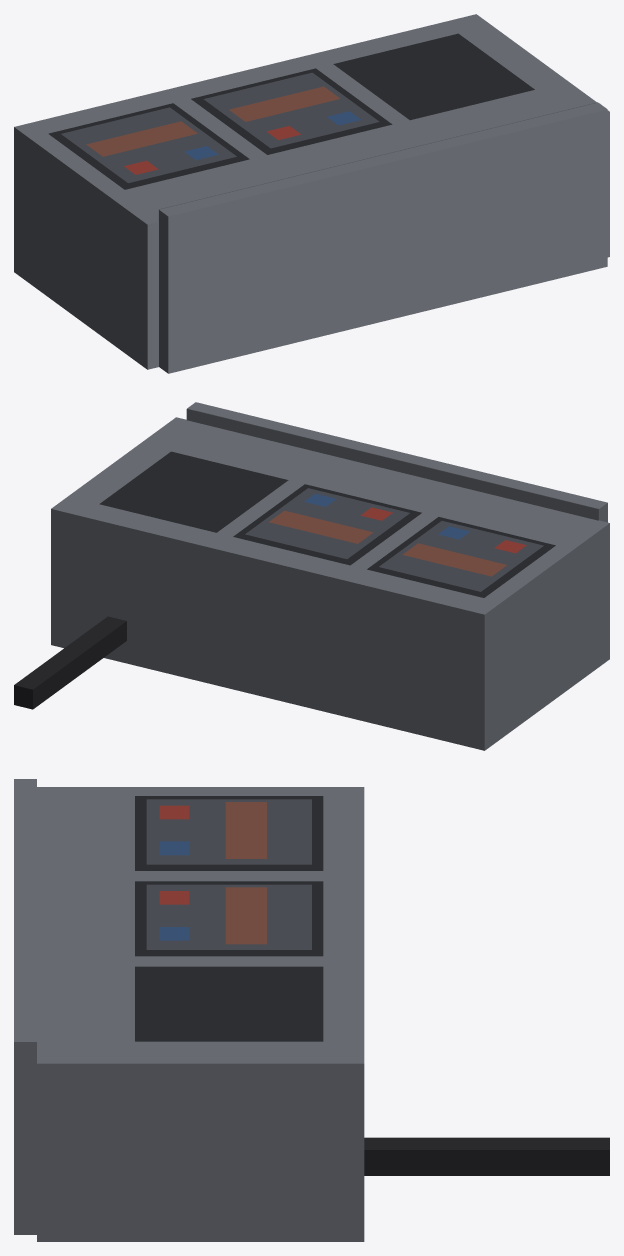
Rendered from bank_wall_standard_c2_S.obj.
3 views of the same model, one above another, from view 1: azimuth 30°, elevation 25°; view 2: azimuth 150°, elevation 25°; view 3: azimuth 270°, elevation 25° (orthographic). The views are drawn at different scales.
Visible parts, largest first — view 1: bank_wall_standard_c2_S; view 2: bank_wall_standard_c2_S; view 3: bank_wall_standard_c2_S.
Part boxes in pixels (x1=…): bank_wall_standard_c2_S: x1=14, y1=14, x2=609, y2=373; bank_wall_standard_c2_S: x1=14, y1=402, x2=609, y2=750; bank_wall_standard_c2_S: x1=14, y1=779, x2=609, y2=1241.
Bounding box in the file's own units: 0.8 × 0.2635 × 0.728.
Materials: 1 (1 with a texture image).
